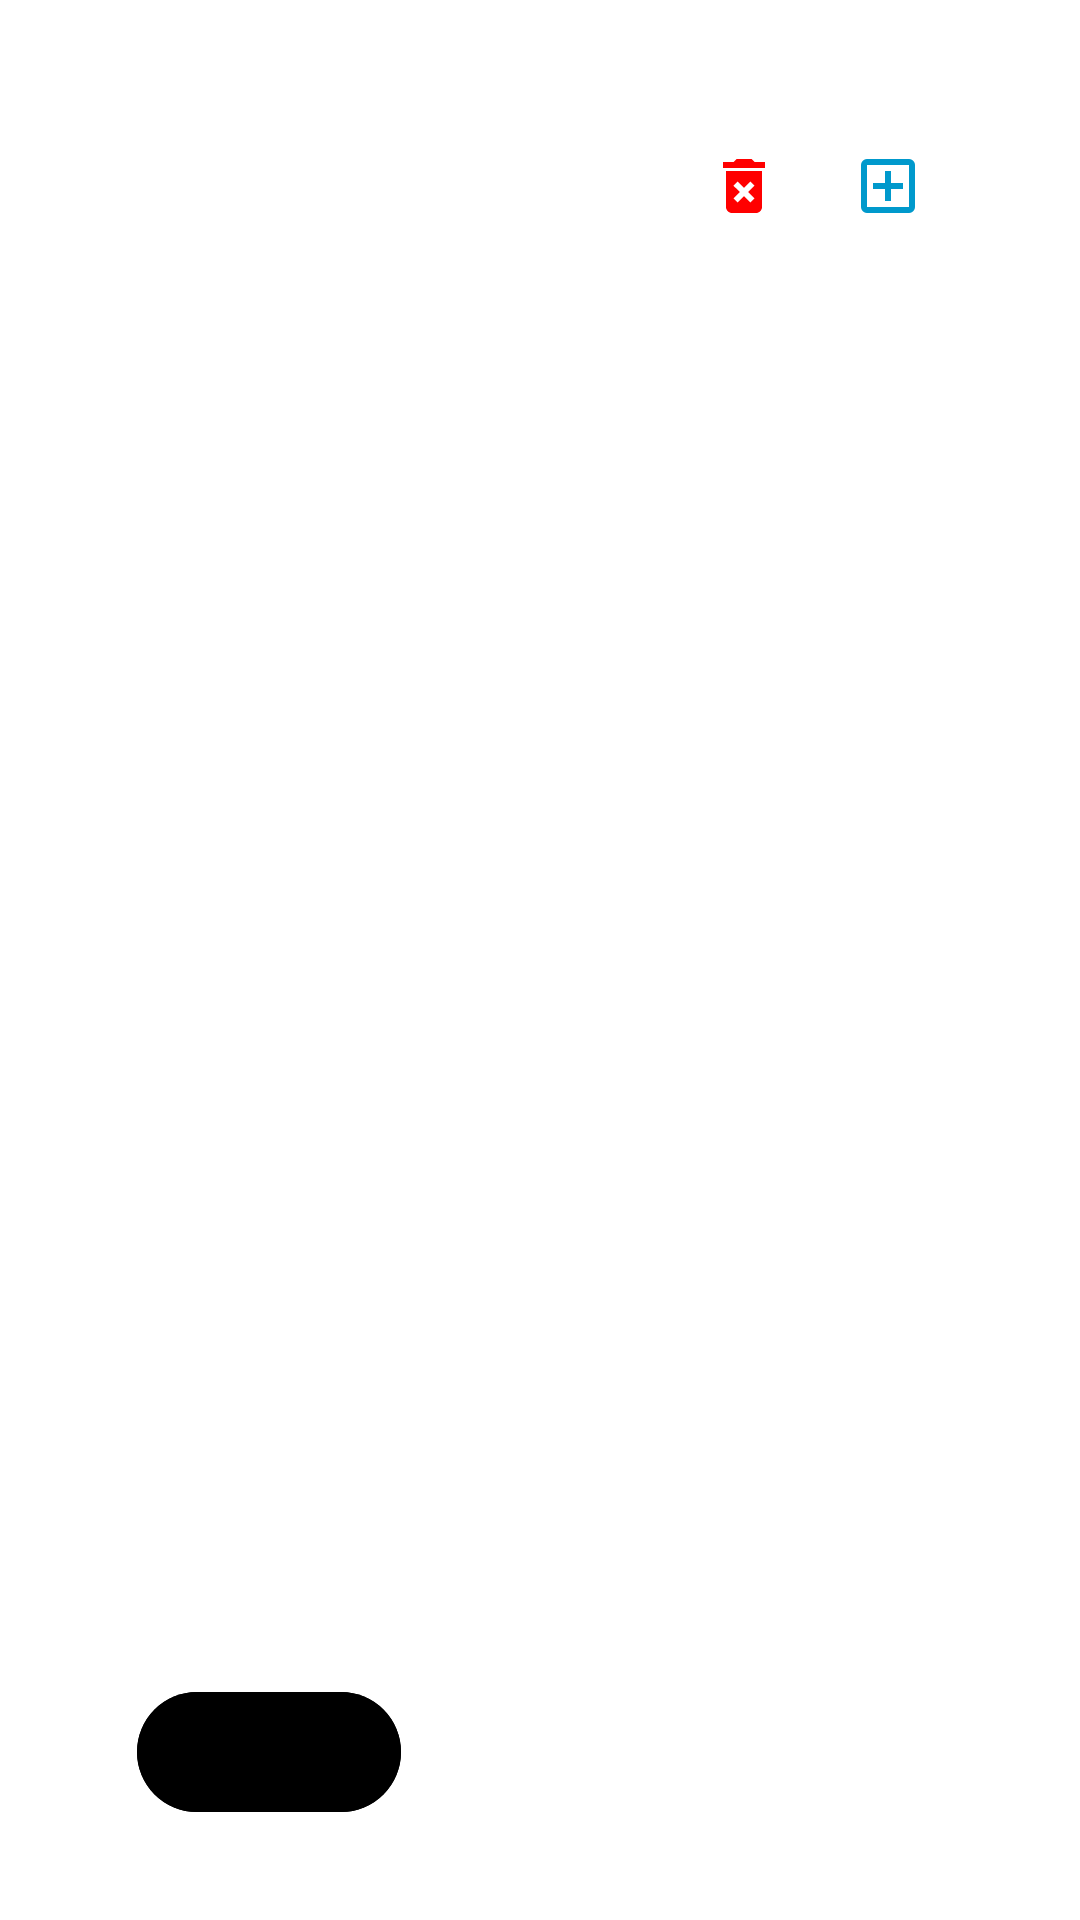

Icon bounding boxes for this 1080x1920 phone screenshot, format bbox(x1, y1, x2, y2):
Add: bbox(861, 159, 915, 213)
Remove: bbox(723, 159, 765, 213)
